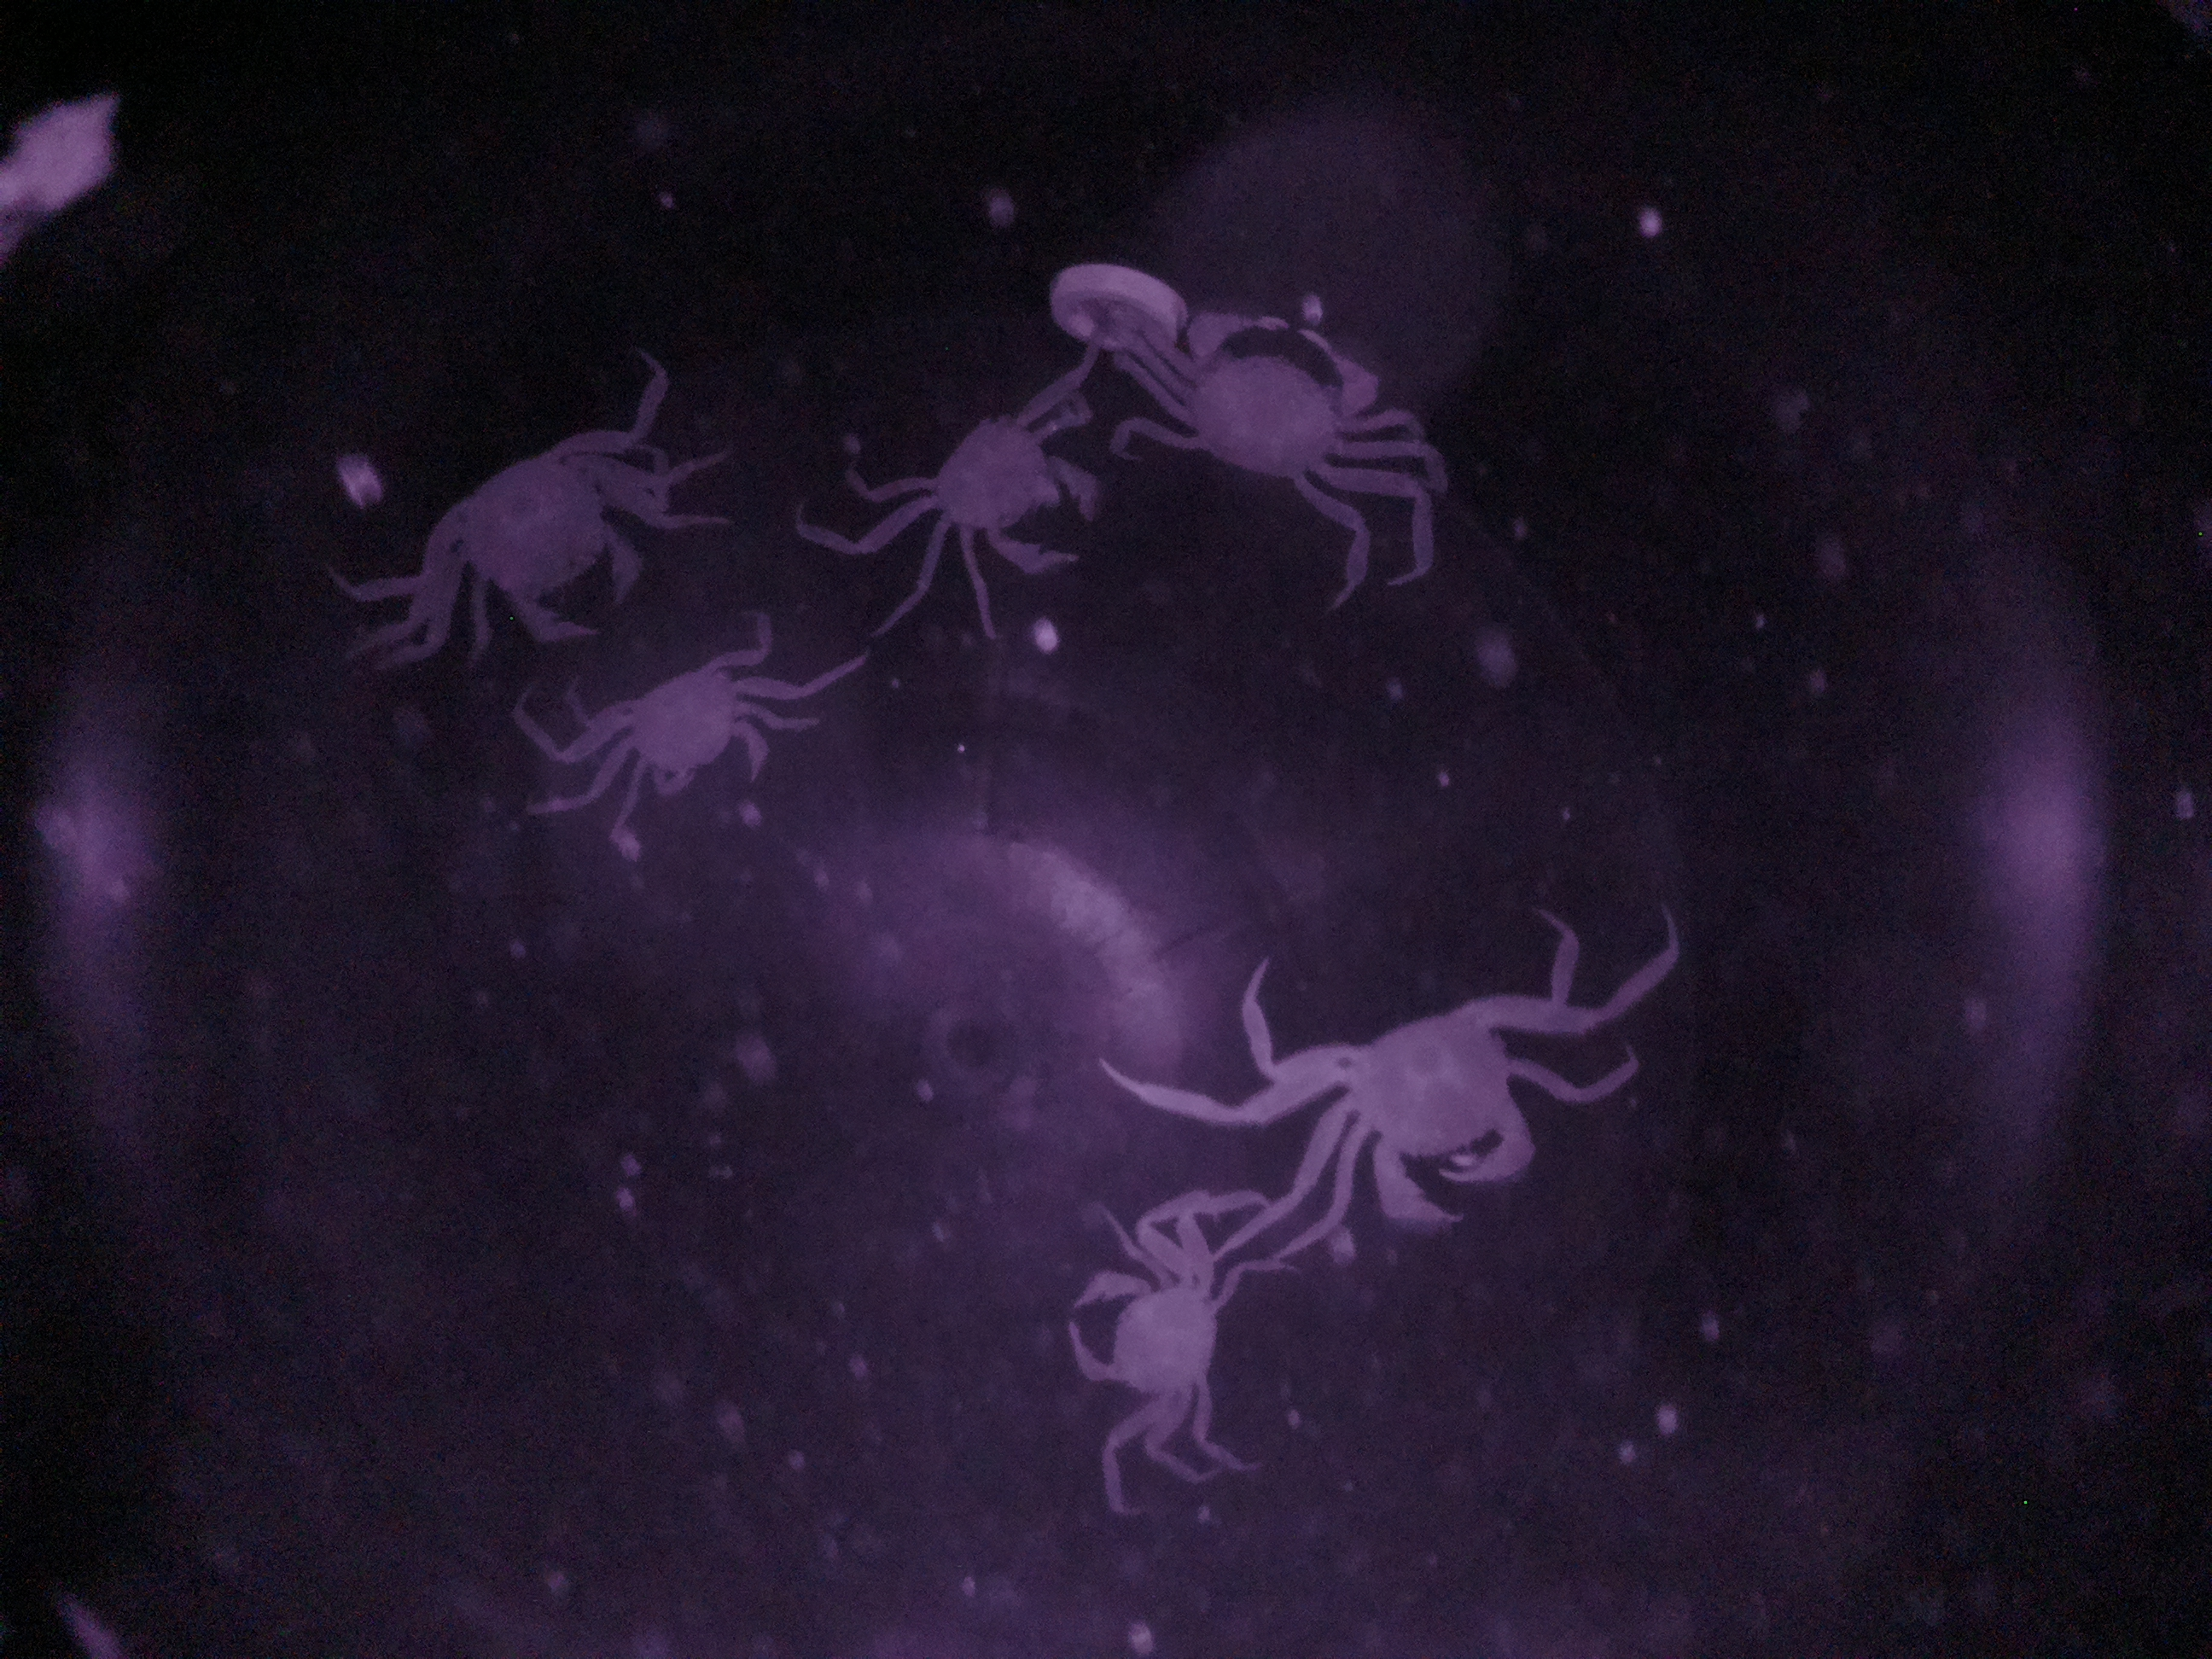Crab: (1280, 981, 1557, 1237), (397, 418, 644, 652), (1144, 295, 1402, 514), (888, 375, 1109, 586), (1069, 1211, 1245, 1460), (599, 653, 779, 838)
